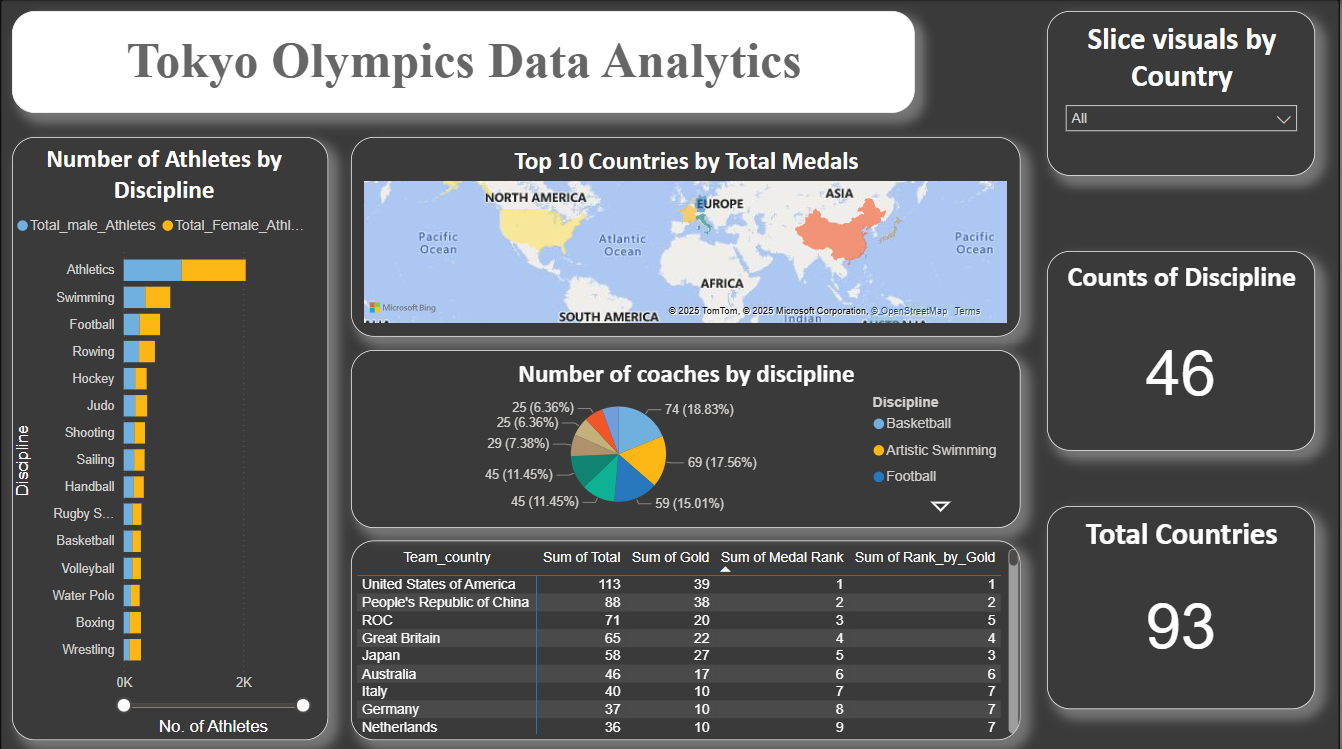

Layout of this report page (visuals, bound fields, positions):
{"tool":"powerbi","page":{"name":"Page 1","canvas":[1280,720],"ordinal":0},"visuals":[{"type":"textbox","title":"Tokyo Olympics Data Analytics","box":[11.1,11.1,862.1,97],"z":0},{"type":"barChart","title":"Number of Athletes by Discipline","fields":{"Category":["transformed_EntriesGender.Discipline"],"Y":["transformed_EntriesGender.Total_male_Athletes","transformed_EntriesGender.Total_Female_Athletes"]},"box":[11.1,132,302.2,575.8],"z":1000},{"type":"filledMap","title":"Top 10 Countries by Total Medals","fields":{"Category":["transformed_Medals.Team_country"],"Series":["transformed_Medals.Medal Rank"]},"box":[335.6,132,639.4,190.9],"z":2000},{"type":"pivotTable","fields":{"Rows":["transformed_Medals.Team_country"],"Values":["Sum(transformed_Medals.Total)","Sum(transformed_Medals.Gold)","Sum(transformed_Medals.Medal Rank)","Sum(transformed_Medals.Rank_by_Gold)"]},"box":[335.6,516.9,639.4,190.9],"z":3000},{"type":"pieChart","title":"Number of coaches by discipline","fields":{"Category":["transformed_coaches.Discipline"],"Y":["CountNonNull(transformed_coaches.Name)"]},"box":[335.6,335.6,639.4,170.2],"z":4000},{"type":"card","title":"Counts of Discipline","fields":{"Values":["CountNonNull(transformed_EntriesGender.Discipline)"]},"box":[1000.5,240.2,256.1,190.9],"z":5000},{"type":"kpi","title":"Total Countries","fields":{"Indicator":["CountNonNull(transformed_Medals.Team_country)"],"TrendLine":["transformed_Teams.NOC"]},"box":[1000.5,483.5,256.1,194.1],"z":6000},{"type":"slicer","title":"Slice visuals by Country","fields":{"Values":["transformed_Medals.Team_country"]},"box":[1000.5,11.1,256.1,157.5],"z":7000}]}

Visuals, with their boxes in screenshot pixels (x1, y1, x2, y2), scaled from the page's 1280x720 canvas onto the 1342x749 screenshot:
"Tokyo Olympics Data Analytics" textbox: (left=12, top=12, right=915, bottom=112)
"Number of Athletes by Discipline" barChart: (left=12, top=137, right=328, bottom=736)
"Top 10 Countries by Total Medals" filledMap: (left=352, top=137, right=1022, bottom=336)
pivotTable - transformed_Medals.Team_country x Sum(transformed_Medals.Total): (left=352, top=538, right=1022, bottom=736)
"Number of coaches by discipline" pieChart: (left=352, top=349, right=1022, bottom=526)
"Counts of Discipline" card: (left=1049, top=250, right=1317, bottom=448)
"Total Countries" kpi: (left=1049, top=503, right=1317, bottom=705)
"Slice visuals by Country" slicer: (left=1049, top=12, right=1317, bottom=175)
